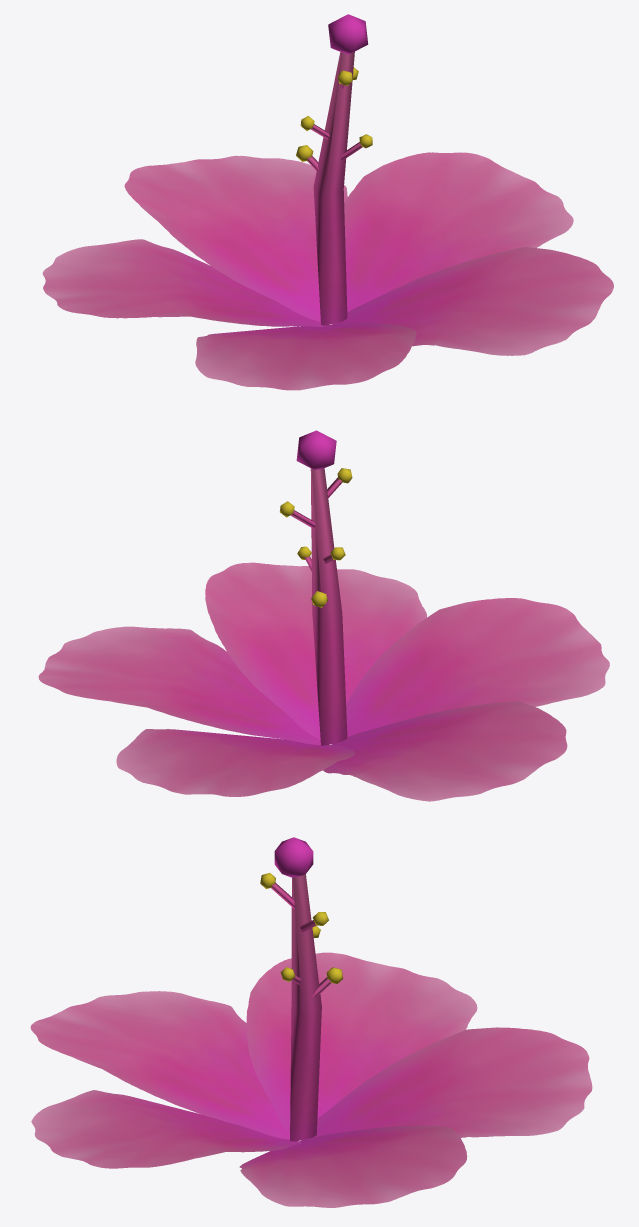
File: Hibiscus_Pink2.fbx
3 renders of one model, top to bottom at view 1: azimuth 30°, elevation 25°; view 2: azimuth 150°, elevation 25°; view 3: azimuth 270°, elevation 25°, orthographic.
Parts seen in each view (by area): view 1: Hibiscus_Pink2; view 2: Hibiscus_Pink2; view 3: Hibiscus_Pink2.
Part boxes in pixels (<box>): Hibiscus_Pink2: <box>42,14,613,390</box>; Hibiscus_Pink2: <box>38,430,609,801</box>; Hibiscus_Pink2: <box>30,837,592,1207</box>.
Bounding box in the file's own units: 43.45 × 24.37 × 42.81.
